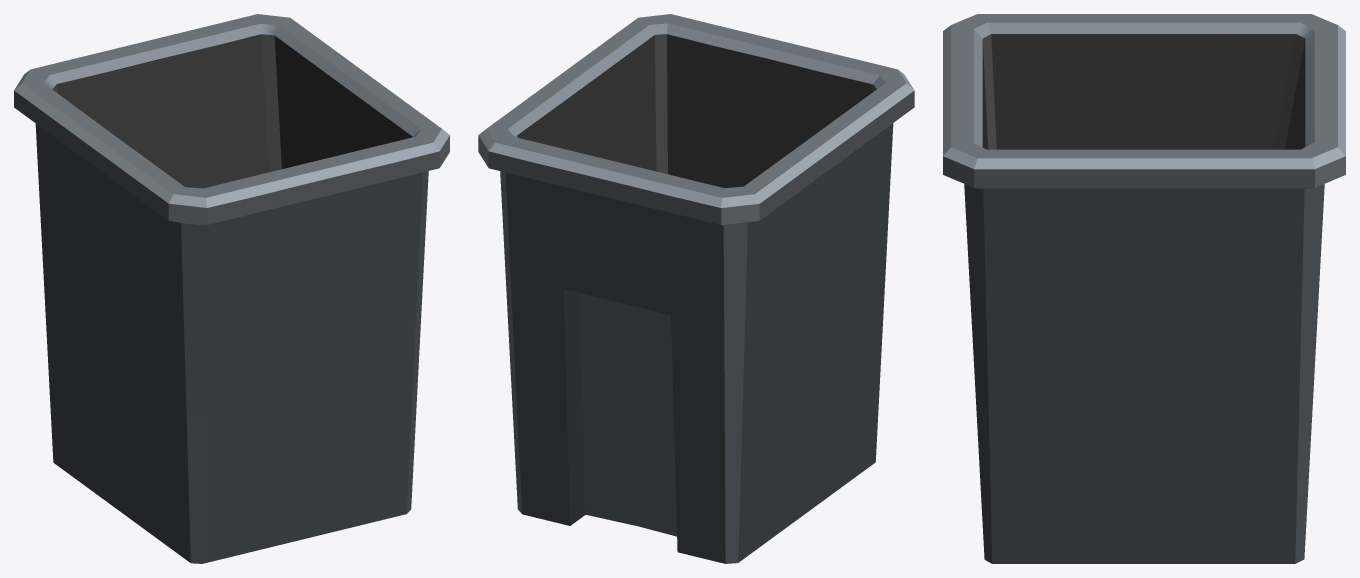
Rendered from TrashCan.fbx.
3 views of the same model, side by side, from view 1: azimuth 30°, elevation 25°; view 2: azimuth 150°, elevation 25°; view 3: azimuth 270°, elevation 25° (orthographic). The views are drawn at different scales.
Visible parts, largest first — view 1: TrashCan; view 2: TrashCan; view 3: TrashCan.
Part boxes in pixels (<box>): TrashCan: <box>14,14,449,563</box>; TrashCan: <box>478,14,914,563</box>; TrashCan: <box>943,14,1345,563</box>.
Size of the model in its own units: 99.17 by 128 by 112.
